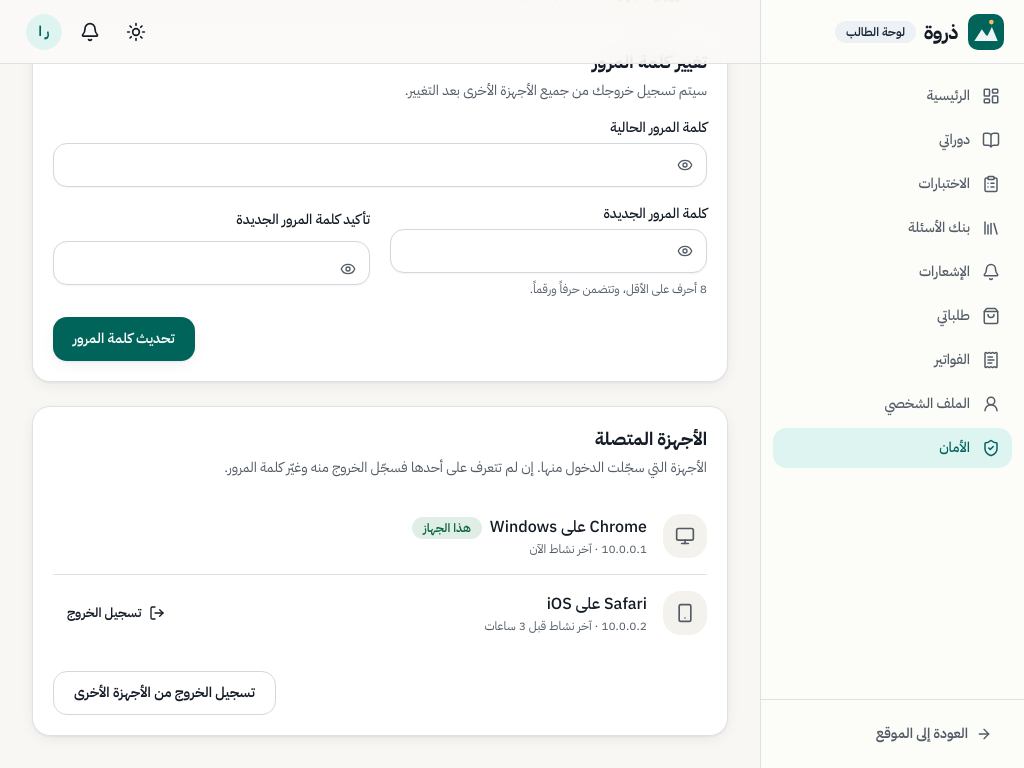
Test case: security page › lists sessions and revokes another device
(page scrolled)
Expected: the text "هذا الجهاز" is shown, [412,517,482,539]
Expected: the text "Safari على iOS" is shown, [547,592,647,616]
Click the button with aria-label "تسجيل الخروج من Safari على iOS": (116, 613) [53,595,179,631]
(page scrolled)
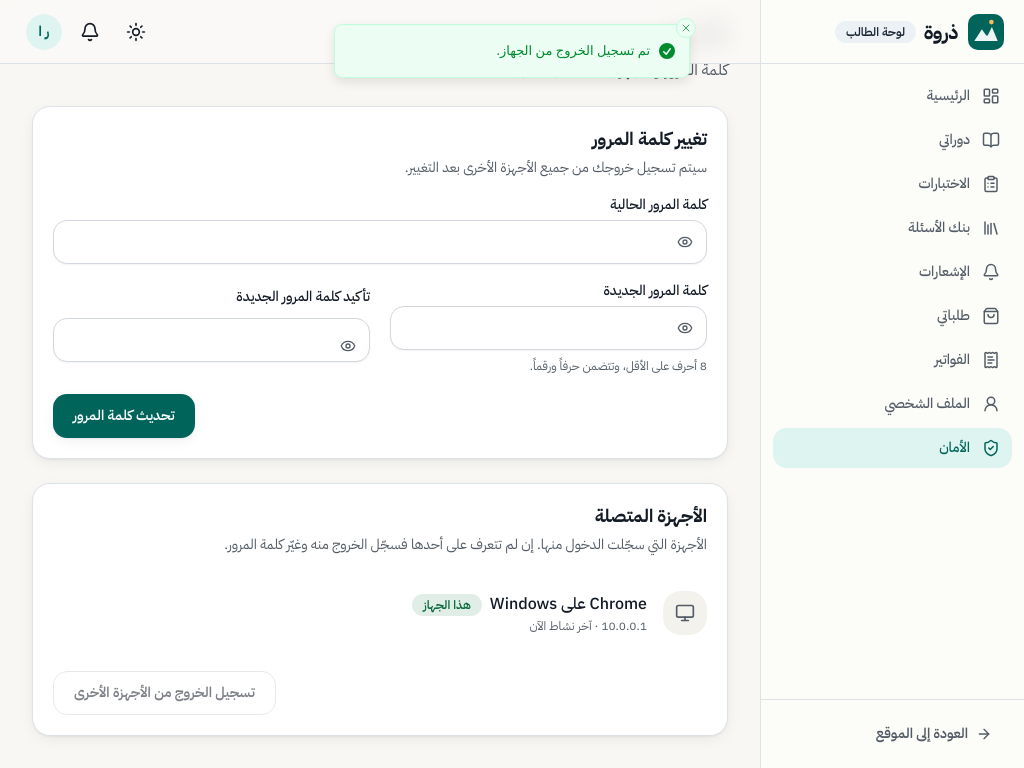
Expected: the text "Safari على iOS" is gone
